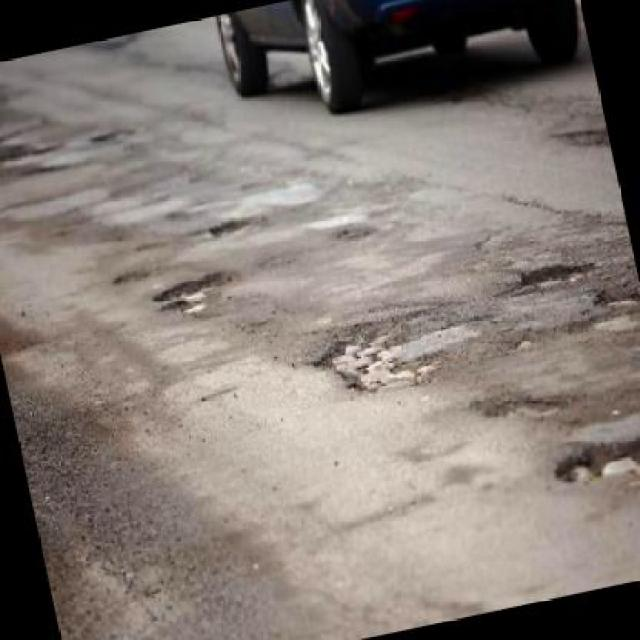pothole1: (306, 312, 445, 411), (542, 411, 638, 503), (148, 264, 245, 328), (510, 250, 592, 296), (580, 280, 638, 343), (551, 116, 609, 162), (204, 213, 256, 239)
